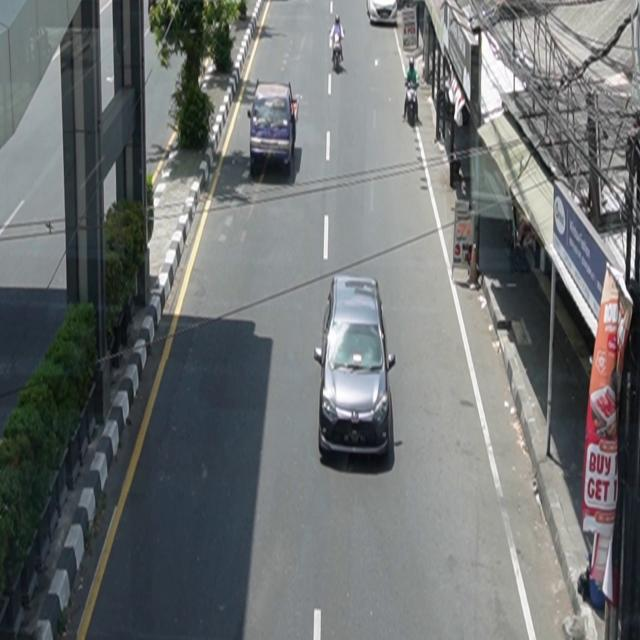car: (314, 276, 397, 461), (248, 80, 300, 175), (367, 1, 398, 26)
